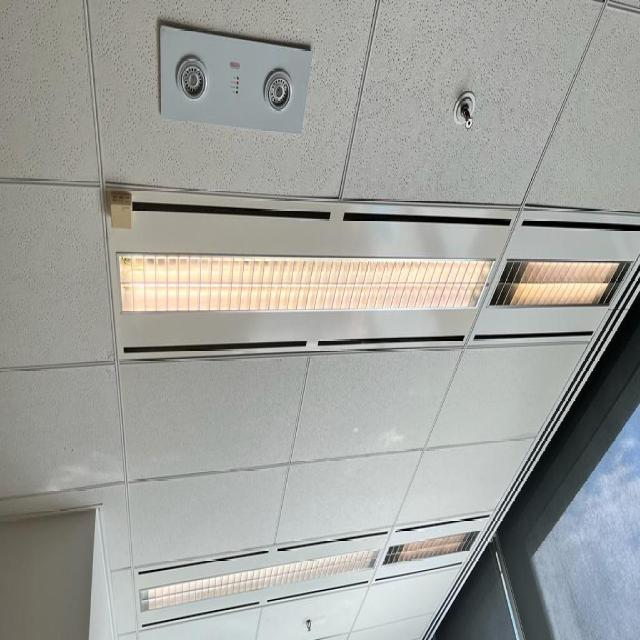Light-Opened: (104, 187, 640, 361), (136, 507, 497, 631)
